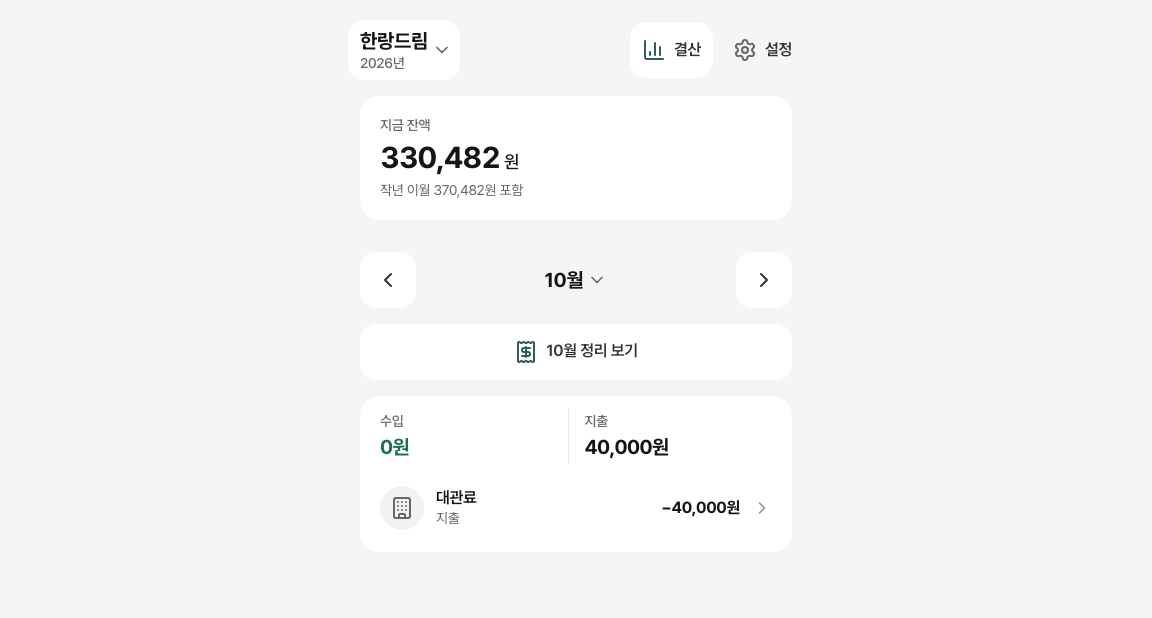
Scenario: SPEC-006 v2.6 용어 바꾸기 (백업 → 기록 파일, 자동 보관 → 자동으로 지키기) › AC-15 보관본이 너무 크면 "기록 파일을 보내 두세요"
The width and height of the screenshot is (1152, 618).
Click the button "설정".
click(762, 50)  # box [721,22,804,78]
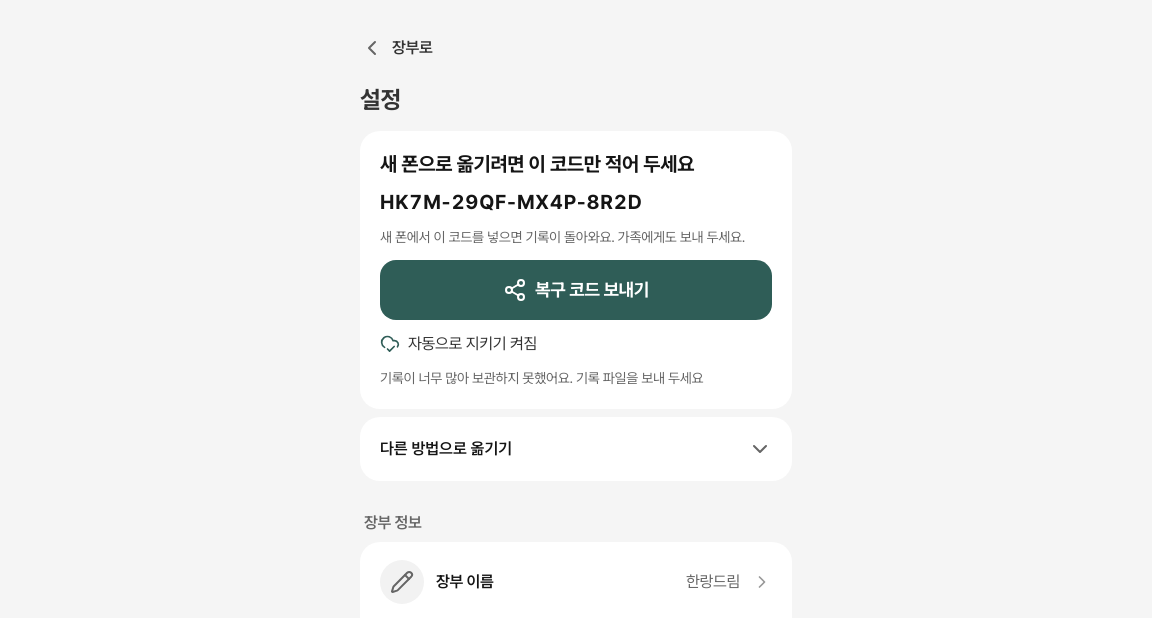
Result: the text "기록이 너무 많아 보관하지 못했어요. 기록 파일을 보내 두세요" is shown at [380,370,703,386]
